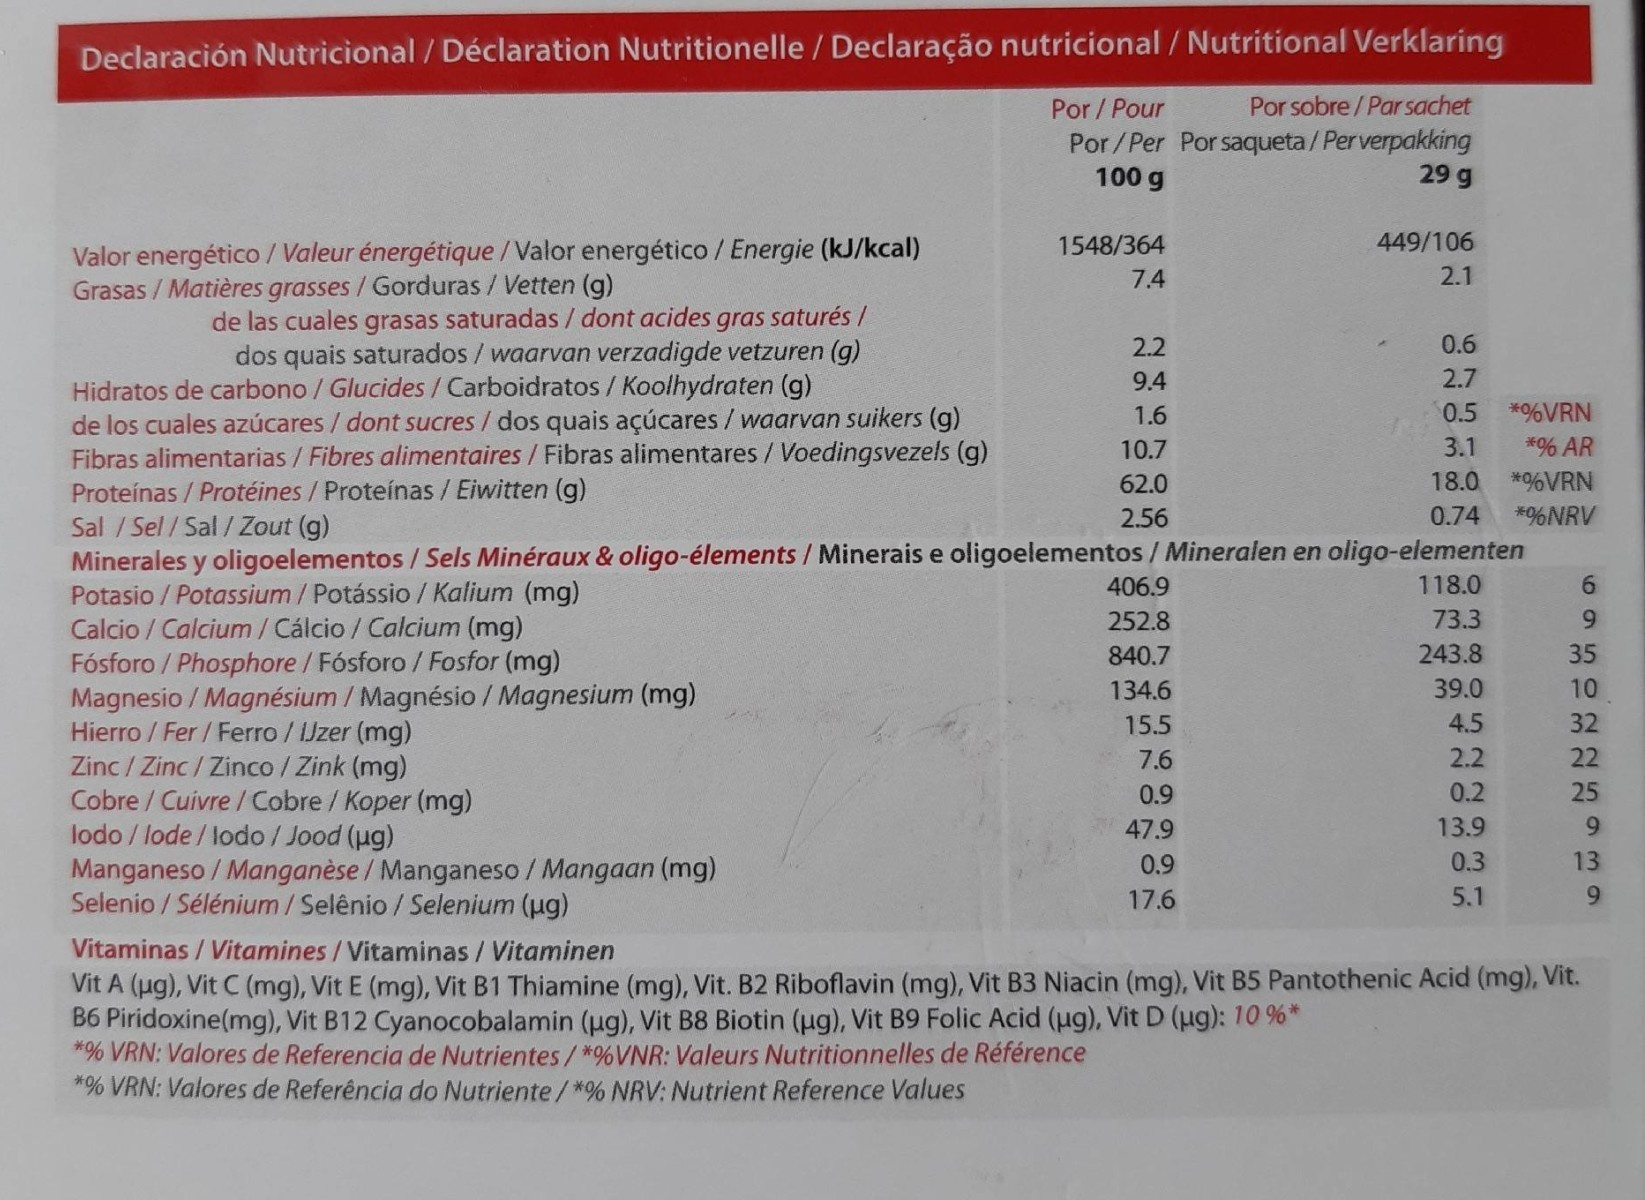column: (1192, 97, 1483, 932), (1050, 94, 1175, 929), (1497, 394, 1605, 923)
table: (43, 17, 1628, 937), (70, 230, 995, 926)
